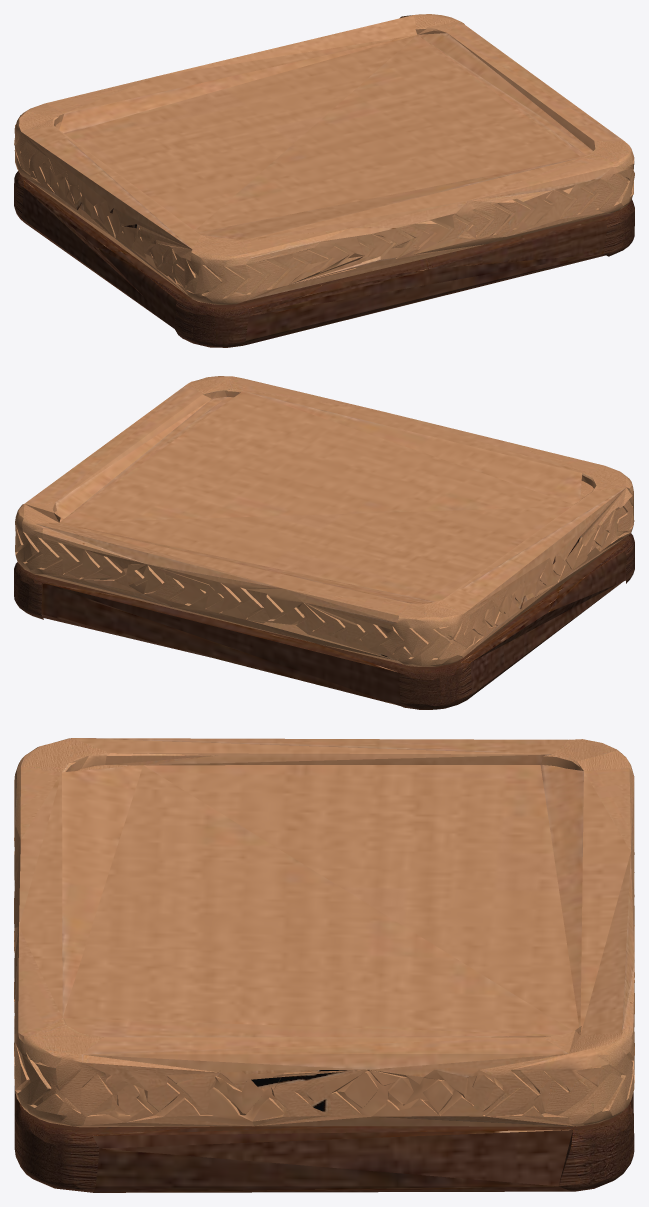
The model's file is display-stand.glb.
3 views of the same model, one above another, from view 1: azimuth 30°, elevation 25°; view 2: azimuth 150°, elevation 25°; view 3: azimuth 270°, elevation 25° (orthographic). The views are drawn at different scales.
Visible parts, largest first — view 1: output_unwrapped; view 2: output_unwrapped; view 3: output_unwrapped.
Boxes of the visible parts, x1=… form: output_unwrapped: x1=14, y1=14, x2=634, y2=347; output_unwrapped: x1=14, y1=376, x2=634, y2=709; output_unwrapped: x1=14, y1=738, x2=634, y2=1192.
Bounding box in the file's own units: 1.9 × 0.3791 × 1.53.
1 material, 1 textured.
